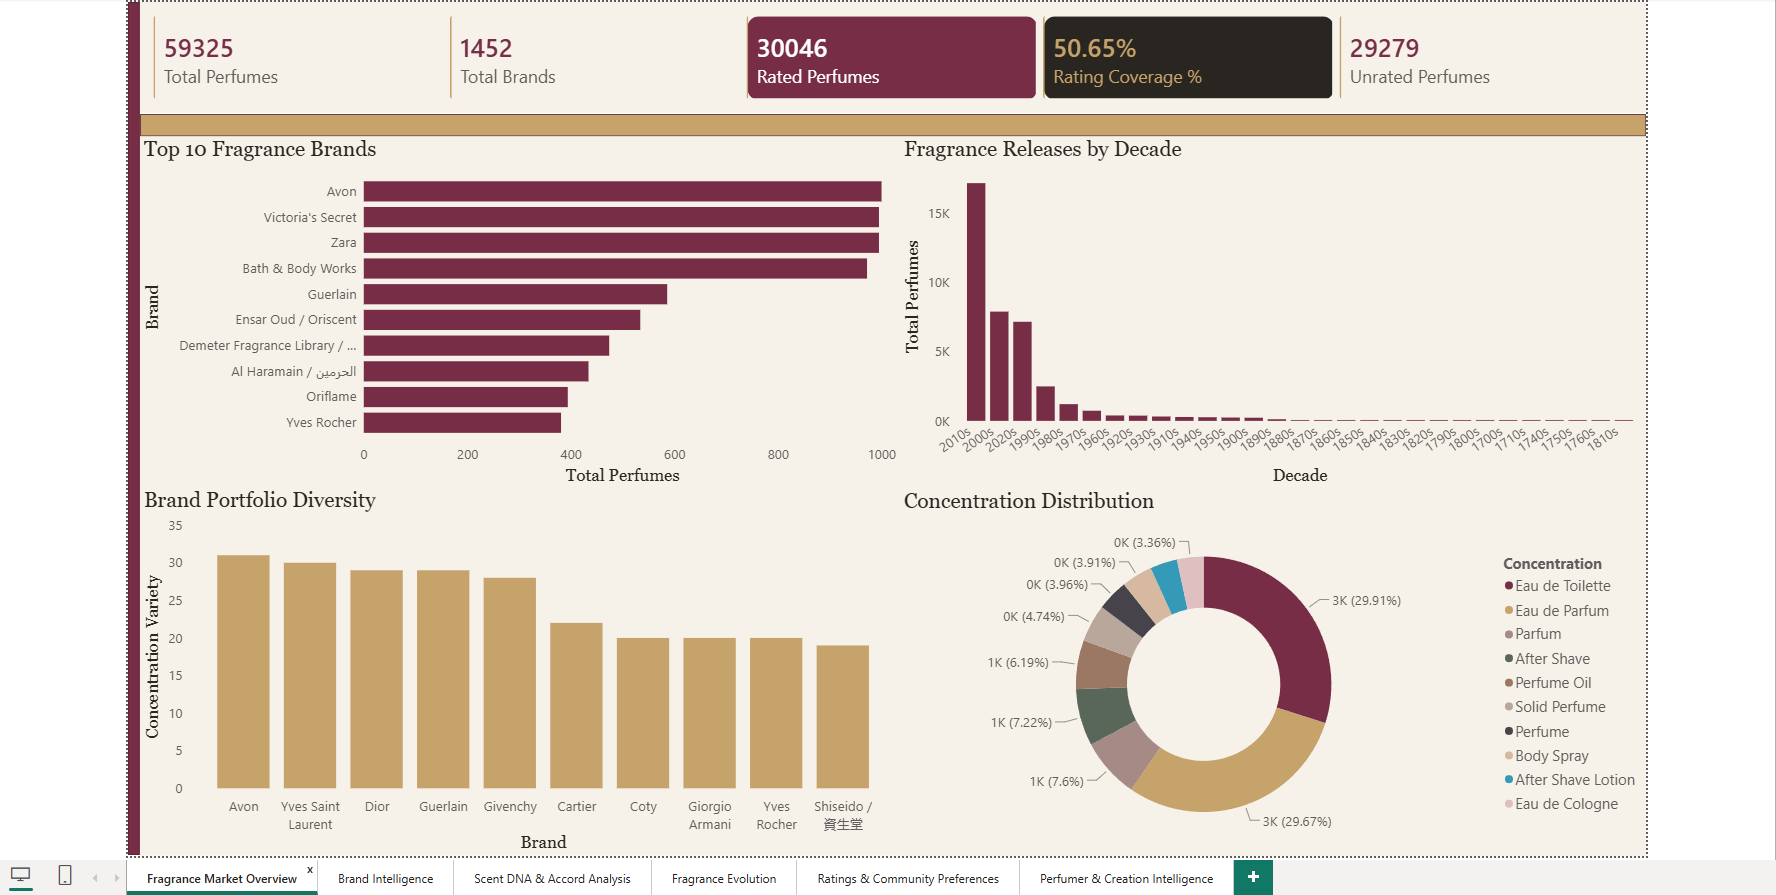

The page's visual inventory and layout, read from the dashboard file:
{"tool":"powerbi","page":{"name":"Fragrance Market Overview","canvas":[1920,1080],"ordinal":0},"visuals":[{"type":"cardVisual","fields":{"Data":["Perfumes.Total Perfumes","Perfumes.Total Brands","Perfumes.Rated Perfumes","Perfumes.Rating Coverage %","Perfumes.Unrated Perfumes"]},"box":[14.8,0,1904.8,140],"z":0},{"type":"clusteredBarChart","title":"Top 10 Fragrance Brands","fields":{"Category":["Perfumes.Brand"],"Y":["Perfumes.Total Perfumes"]},"box":[14.8,170.6,961.8,444.6],"z":1000},{"type":"clusteredColumnChart","title":"Fragrance Releases by Decade","fields":{"Category":["Perfumes.Decade"],"Y":["Perfumes.Total Perfumes"]},"box":[976,170.7,944,445],"z":2000},{"type":"donutChart","title":"Concentration Distribution","fields":{"Y":["Perfumes.Total Perfumes"],"Category":["Perfumes.Concentration"]},"box":[976,615.7,944,464],"z":3000},{"type":"clusteredColumnChart","title":"Brand Portfolio Diversity","fields":{"Category":["Perfumes.Brand"],"Y":["Perfumes.Concentration Variety"]},"box":[14.8,615.2,961.8,464.8],"z":4000},{"type":"shape","box":[0,0,14.8,1078.7],"z":5000},{"type":"shape","box":[14.8,141,1904.8,28.2],"z":6000}]}

Visuals, with their boxes on the page's 1920x1080 design canvas (x1, y1, x2, y2). These are canvas units, not pixel positions in the 1776x895 screenshot, which may show the page scaled, cropped or inside an application window:
cardVisual - Perfumes.Total Perfumes x Perfumes.Total Brands: bbox(15, 0, 1920, 140)
"Top 10 Fragrance Brands" clusteredBarChart: bbox(15, 171, 977, 615)
"Fragrance Releases by Decade" clusteredColumnChart: bbox(976, 171, 1920, 616)
"Concentration Distribution" donutChart: bbox(976, 616, 1920, 1080)
"Brand Portfolio Diversity" clusteredColumnChart: bbox(15, 615, 977, 1080)
shape: bbox(0, 0, 15, 1079)
shape: bbox(15, 141, 1920, 169)
